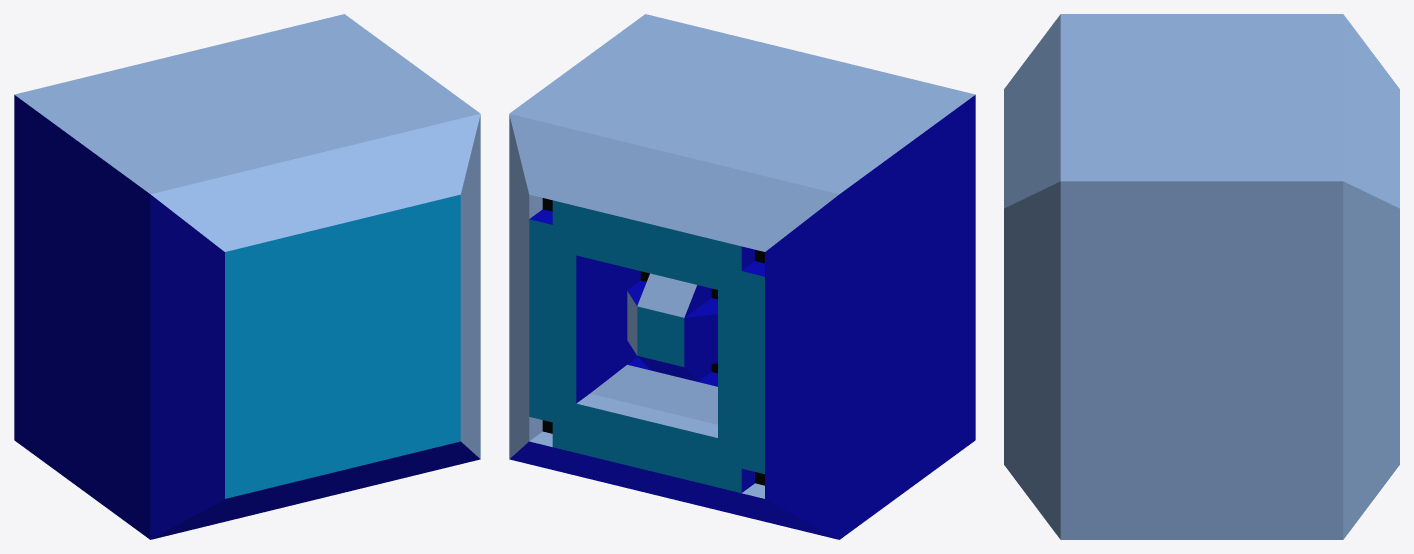
Rendered from br-m-cube-blue.fbx.
3 views of the same model, side by side, from view 1: azimuth 30°, elevation 25°; view 2: azimuth 150°, elevation 25°; view 3: azimuth 270°, elevation 25° (orthographic). The views are drawn at different scales.
Parts seen in each view (by area): view 1: cube_blue2; view 2: cube_blue2; view 3: cube_blue2.
Part boxes in pixels (bbox=[...]): cube_blue2: bbox=[14, 14, 480, 539]; cube_blue2: bbox=[509, 14, 975, 539]; cube_blue2: bbox=[1004, 14, 1399, 539].
Bounding box in the file's own units: 0.875 × 0.875 × 0.875.
